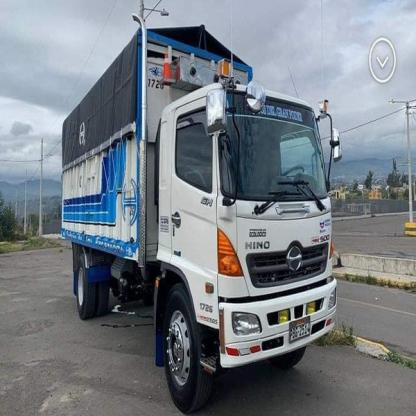Placa: (286, 315, 316, 342)
